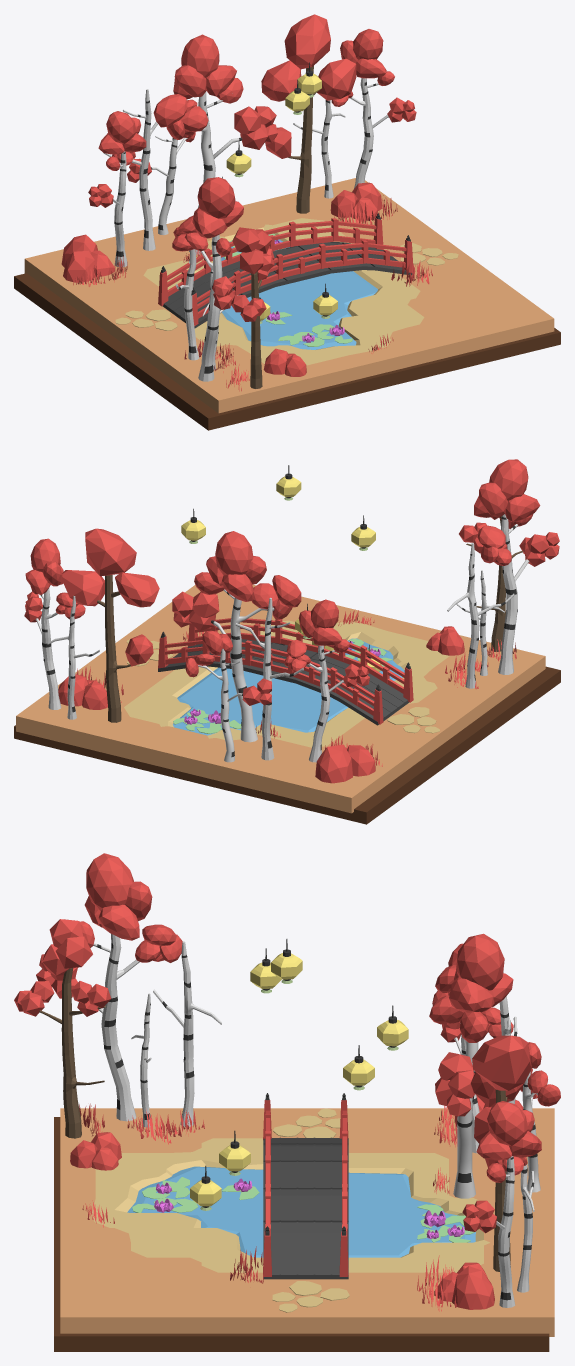
Rendered from Japanese_Bridge_Garden.glb.
3 renders of one model, top to bottom at view 1: azimuth 30°, elevation 25°; view 2: azimuth 150°, elevation 25°; view 3: azimuth 270°, elevation 25°, orthographic. The views are drawn at different scales.
Parts seen in each view (by area): view 1: Cube_Material.008_0, Cube_Material.016_0, Cube_Material.009_0, Cube.005_Material.003_0, Icosphere.016_Material.003_0, Plane.003_Material.005_0, Circle_Material.003_0, Cylinder.005_Material.003_0, Cube.005_Material.007_0, Cylinder.003_Material.003_0, Cylinder.001_Material.003_0, Icosphere.010_Material.003_0 (+13 smaller); view 2: Cube_Material.008_0, Cube_Material.016_0, Cube_Material.009_0, Cube.005_Material.003_0, Icosphere.016_Material.003_0, Plane.003_Material.005_0, Circle_Material.003_0, Cylinder.005_Material.003_0, Cube.005_Material.007_0, Cylinder.001_Material.003_0, Cylinder.003_Material.003_0, Icosphere.017_Material.003_0 (+15 smaller); view 3: Cube_Material.008_0, Cube_Material.009_0, Plane.003_Material.005_0, Cube_Material.016_0, Cube.005_Material.007_0, Icosphere.016_Material.003_0, Cylinder.005_Material.003_0, Cylinder.003_Material.003_0, Icosphere.010_Material.003_0, Circle_Material.003_0, Cylinder.005_Material.001_0, Cube.005_Material.003_0 (+18 smaller).
Boxes of the visible parts, x1,y1,x2,y2 form: Cube_Material.008_0: [24, 178, 554, 413]; Cube_Material.016_0: [14, 273, 560, 430]; Cube_Material.009_0: [143, 218, 424, 365]; Cube.005_Material.003_0: [158, 218, 412, 326]; Icosphere.016_Material.003_0: [153, 34, 277, 149]; Plane.003_Material.005_0: [221, 239, 377, 349]; Circle_Material.003_0: [261, 14, 356, 158]; Cylinder.005_Material.003_0: [172, 177, 243, 309]; Cube.005_Material.007_0: [162, 242, 412, 328]; Cylinder.003_Material.003_0: [326, 29, 416, 122]; Cylinder.001_Material.003_0: [88, 111, 146, 207]; Icosphere.010_Material.003_0: [231, 227, 274, 321]; Cube_Material.008_0: [16, 584, 545, 813]; Cube_Material.016_0: [14, 666, 560, 824]; Cube_Material.009_0: [124, 620, 449, 747]; Cube.005_Material.003_0: [158, 618, 413, 724]; Icosphere.016_Material.003_0: [172, 531, 301, 631]; Plane.003_Material.005_0: [173, 638, 404, 735]; Circle_Material.003_0: [62, 528, 159, 666]; Cylinder.005_Material.003_0: [474, 459, 559, 566]; Cube.005_Material.007_0: [158, 638, 408, 725]; Cylinder.001_Material.003_0: [284, 599, 369, 686]; Cylinder.003_Material.003_0: [24, 538, 85, 622]; Icosphere.017_Material.003_0: [315, 744, 375, 783]; Cube_Material.008_0: [60, 1108, 554, 1336]; Cube_Material.009_0: [92, 1138, 489, 1272]; Plane.003_Material.005_0: [127, 1166, 475, 1257]; Cube_Material.016_0: [54, 1117, 549, 1351]; Cube.005_Material.007_0: [263, 1137, 348, 1279]; Icosphere.016_Material.003_0: [429, 933, 513, 1116]; Cylinder.005_Material.003_0: [36, 853, 182, 998]; Cylinder.003_Material.003_0: [462, 1101, 541, 1233]; Icosphere.010_Material.003_0: [14, 919, 111, 1016]; Circle_Material.003_0: [470, 1035, 531, 1167]; Cylinder.005_Material.001_0: [93, 934, 139, 1121]; Cube.005_Material.003_0: [263, 1100, 348, 1276].
Bounding box in the file's own units: 11.36 × 7.01 × 11.37.
